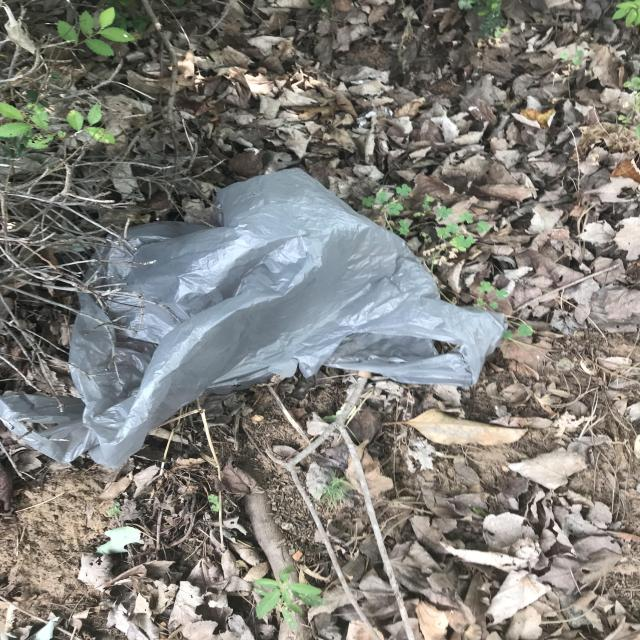litter: (0, 166, 513, 470)
